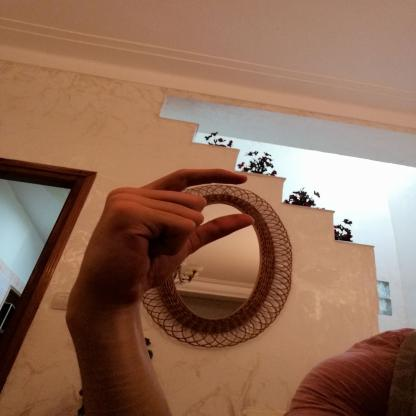DELL: (55, 157, 267, 315)
